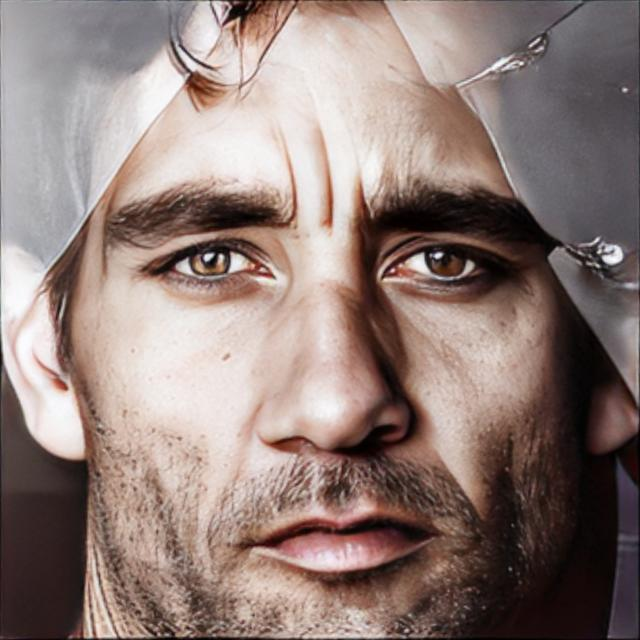sad: (66, 2, 597, 639)
